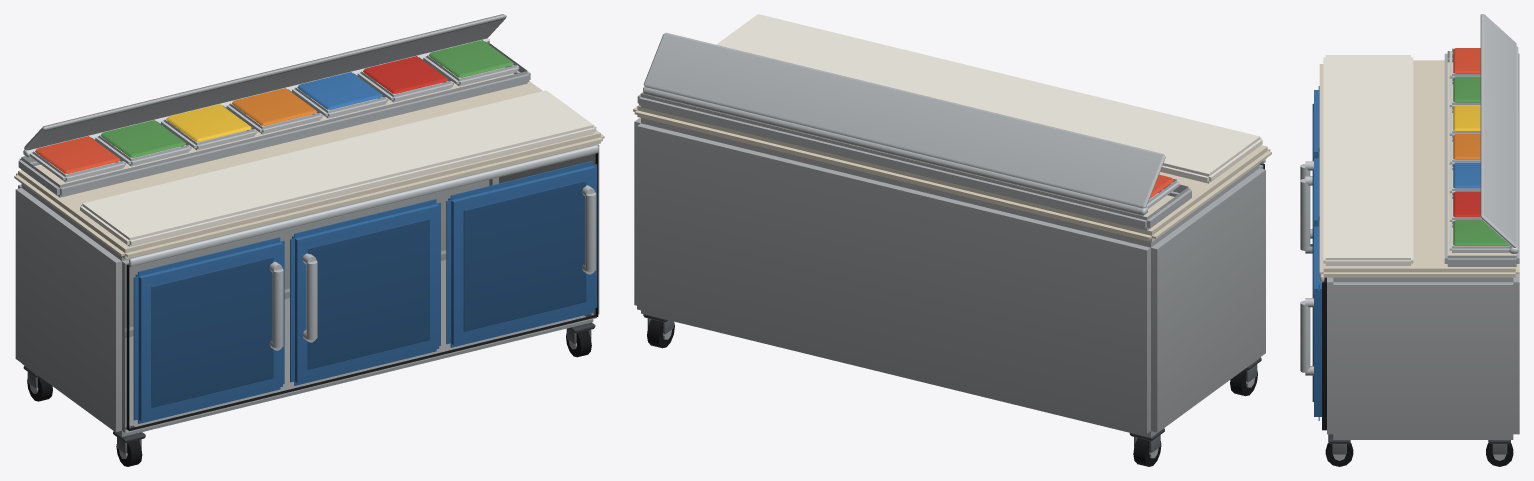
File: SM_PrepTable_Pizza_20.glb
3 views of the same model, side by side, from view 1: azimuth 30°, elevation 25°; view 2: azimuth 150°, elevation 25°; view 3: azimuth 270°, elevation 25° (orthographic). The views are drawn at different scales.
Parts seen in each view (by area): view 1: SM_PrepTable_Pizza_20; view 2: SM_PrepTable_Pizza_20; view 3: SM_PrepTable_Pizza_20.
Boxes of the visible parts, x1,y1,x2,y2 form: SM_PrepTable_Pizza_20: (14, 14, 604, 466); SM_PrepTable_Pizza_20: (633, 14, 1271, 466); SM_PrepTable_Pizza_20: (1300, 14, 1519, 466).
Bounding box in the file's own units: 2 × 1.11 × 0.877.
Materials: 1 (1 with a texture image).
